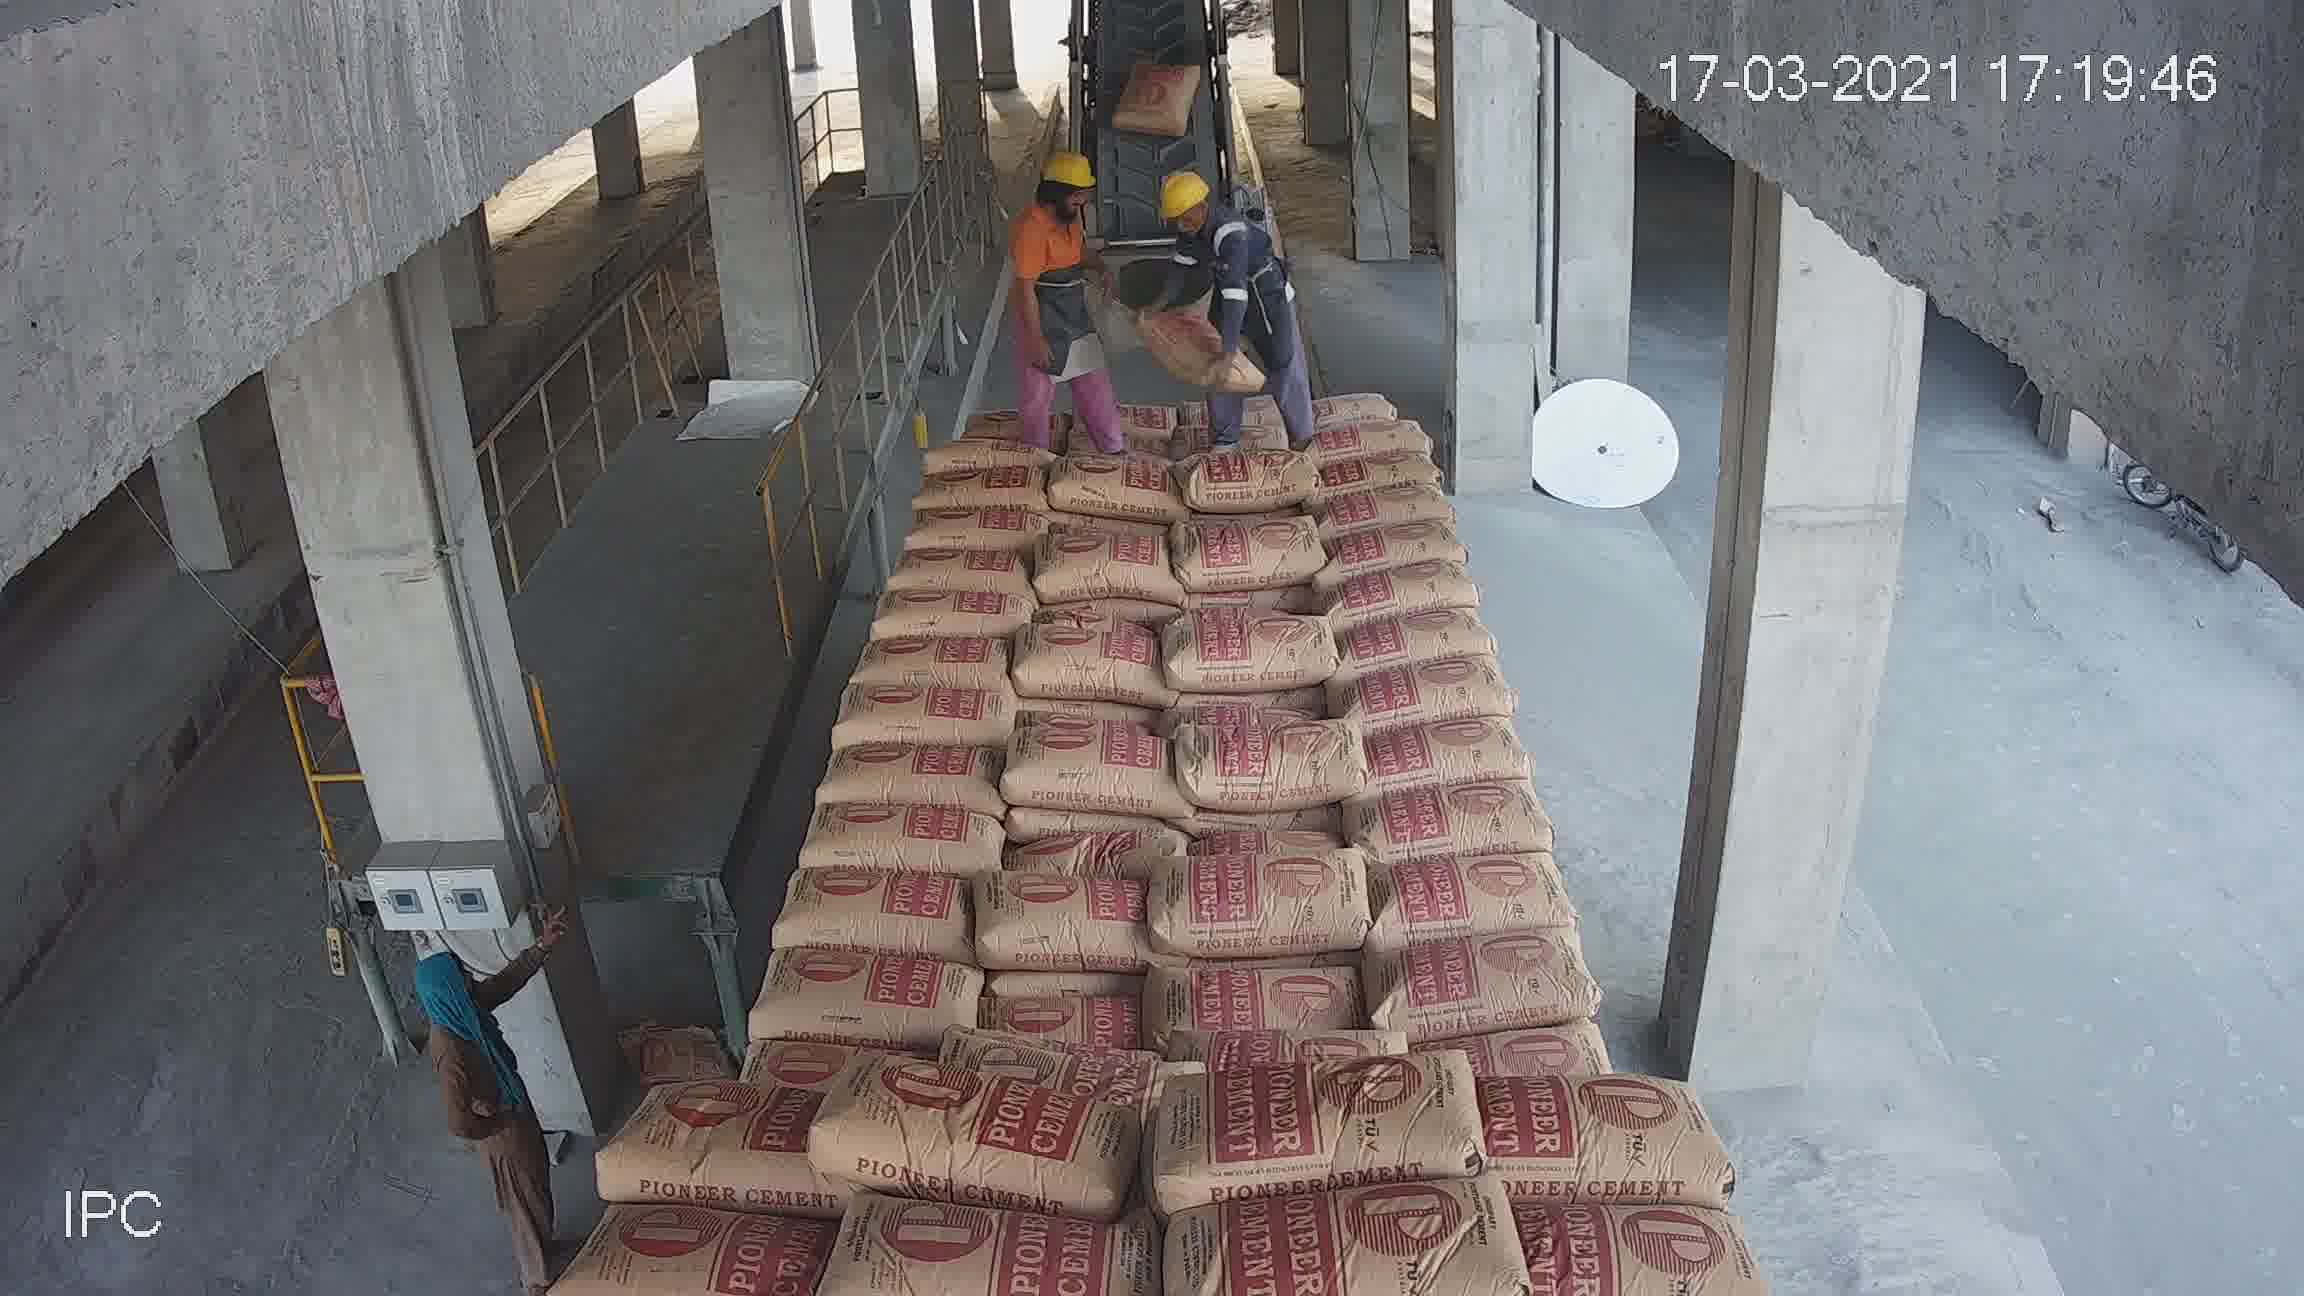bag: (1109, 661, 1320, 894), (1074, 130, 1230, 271)
bag_h: (1138, 1059, 1473, 1214), (1138, 1166, 1521, 1296), (815, 1082, 1154, 1211), (1465, 1067, 1737, 1203), (812, 1198, 1125, 1287), (584, 1079, 809, 1203), (1516, 1207, 1771, 1296), (1418, 916, 1593, 1025), (1408, 839, 1570, 957), (551, 1207, 809, 1279), (919, 1029, 1199, 1093), (967, 878, 1149, 968), (972, 785, 1139, 878), (1383, 782, 1560, 867), (1391, 717, 1540, 793), (1464, 1013, 1609, 1090), (994, 718, 1120, 802), (1397, 658, 1521, 744), (1374, 608, 1506, 673), (1304, 366, 1438, 415), (1381, 541, 1473, 611), (1302, 293, 1399, 347), (1301, 340, 1408, 380)
belt: (984, 32, 1294, 633)
